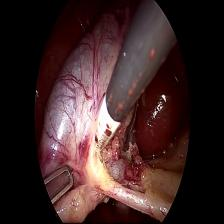Grasper: (43, 159, 77, 208)
Hook: (93, 100, 117, 166)
